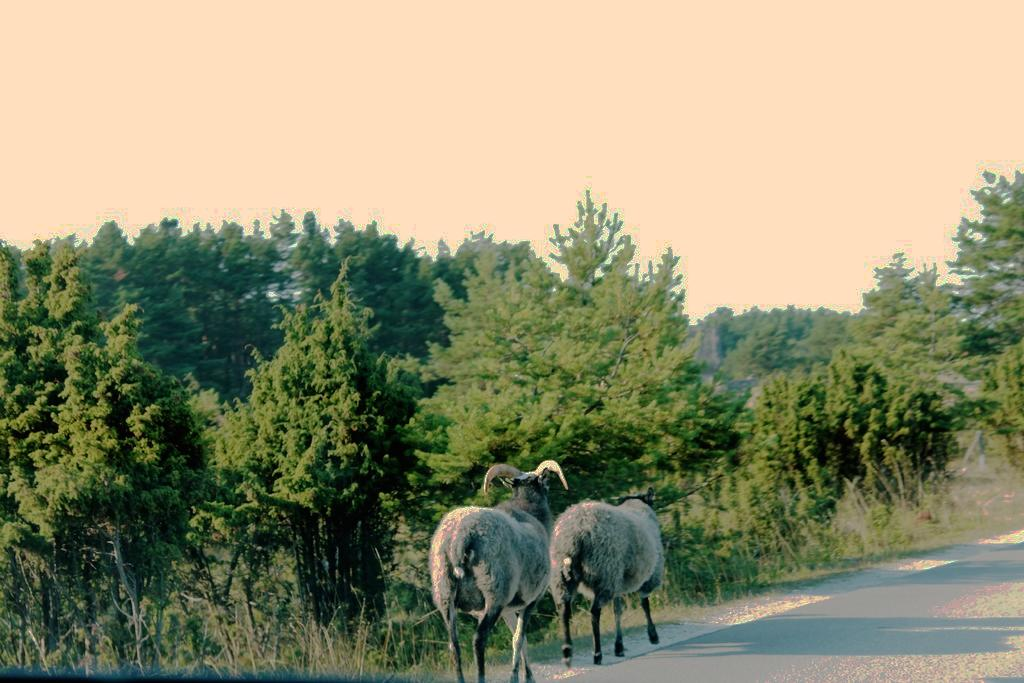Sheep: (428, 464, 570, 682), (550, 489, 666, 666)
